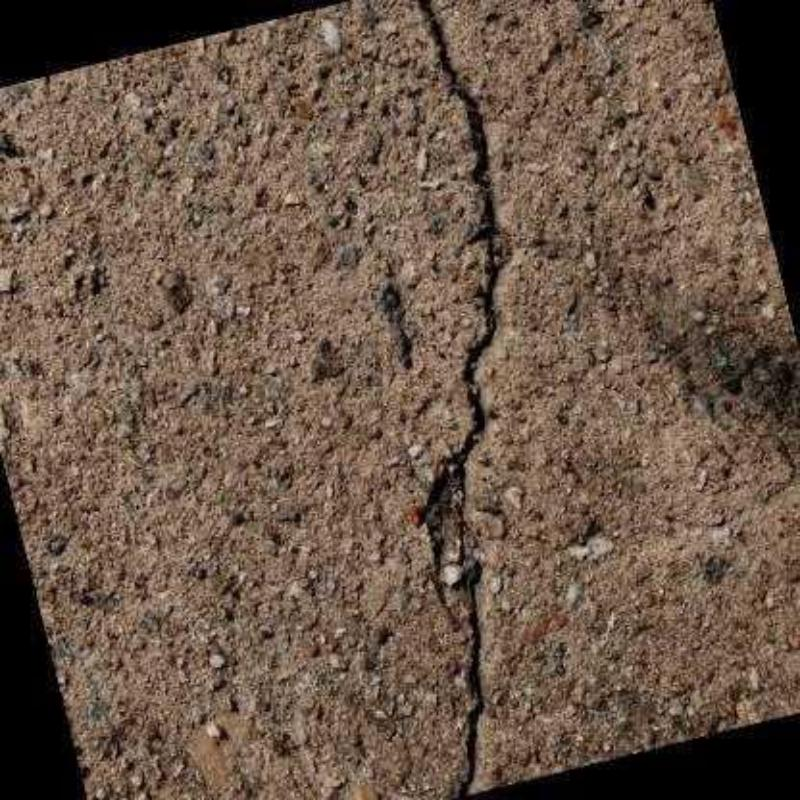crack: (419, 0, 499, 796)
